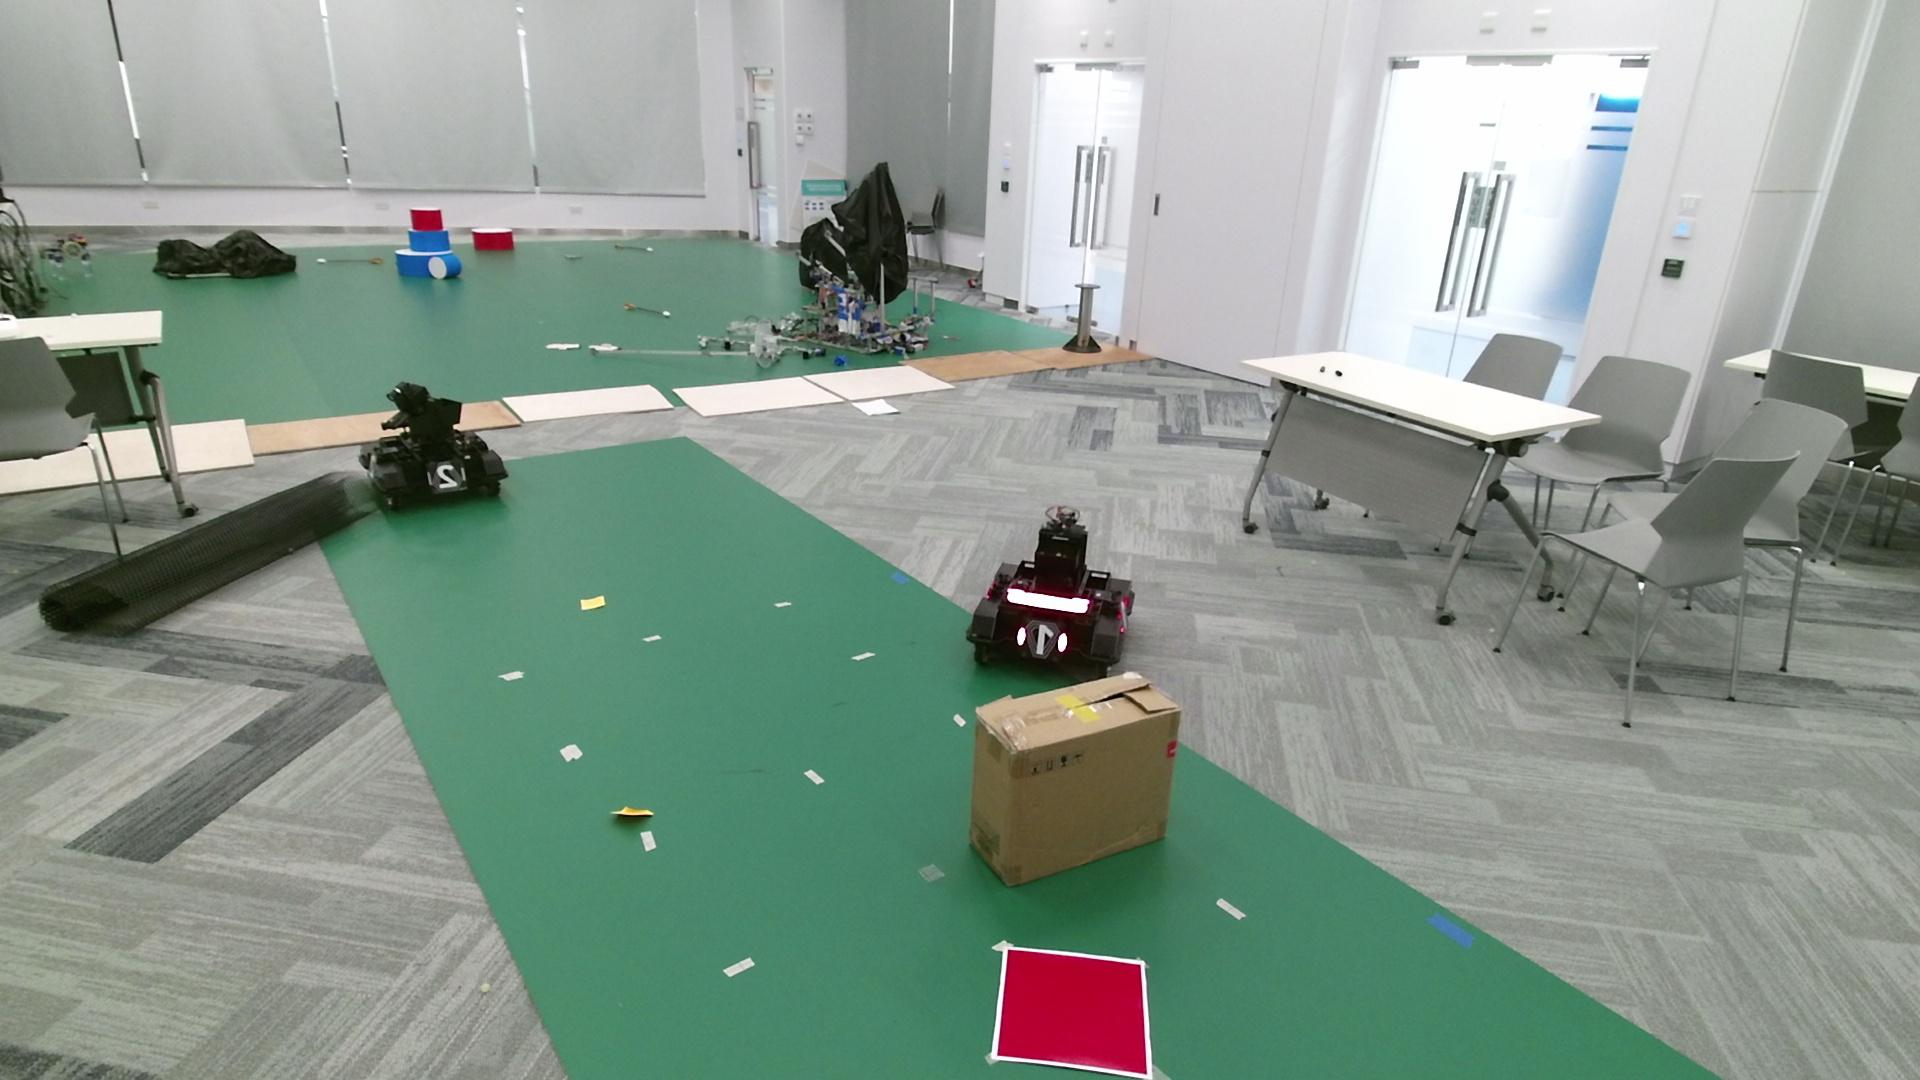robot: (965, 505, 1135, 679), (357, 380, 509, 510)
